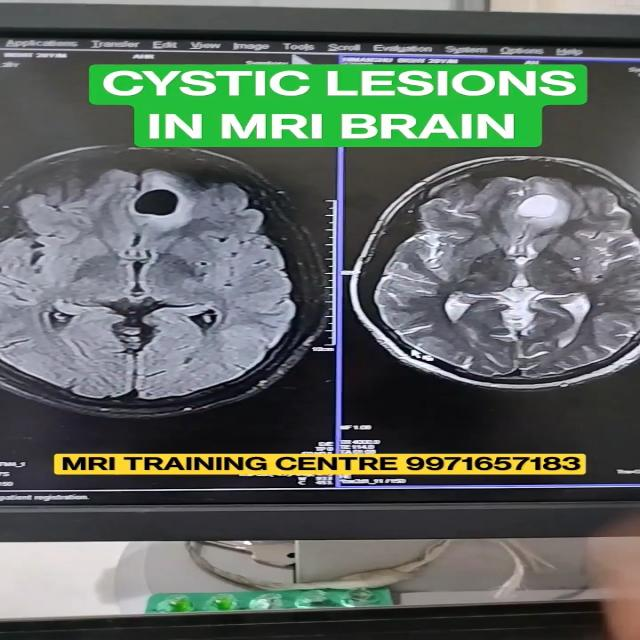tumor: (502, 170, 614, 246), (125, 176, 221, 228)
